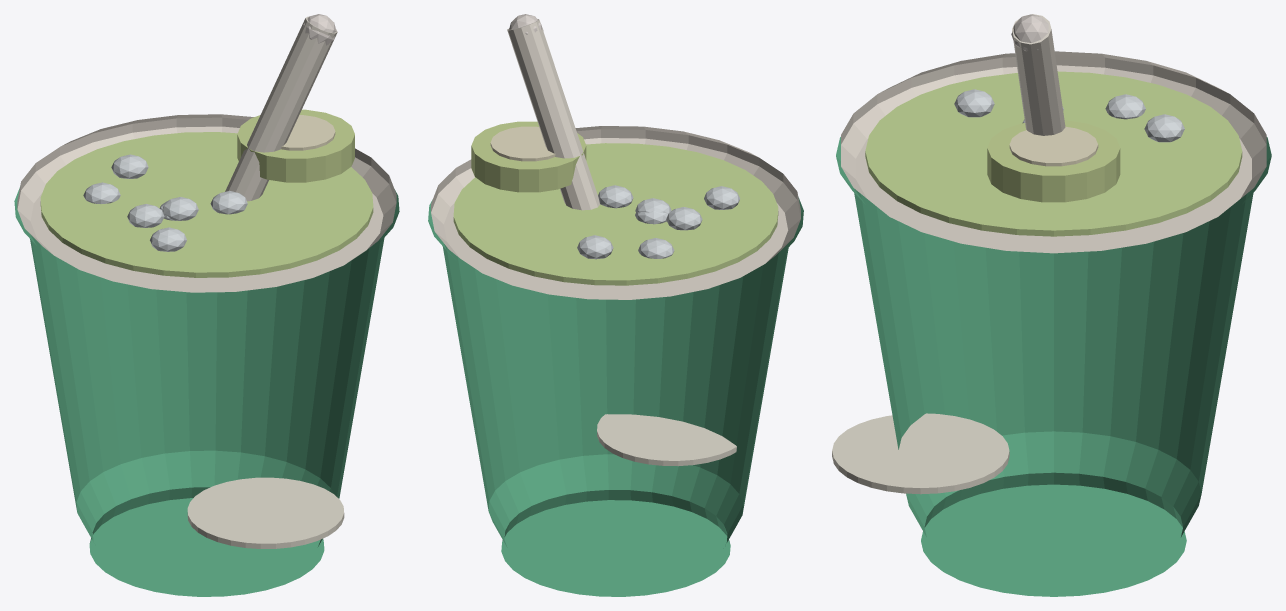
File: sprite.glb
The picture shows the model from 3 angles, left to right: view 1: azimuth 30°, elevation 25°; view 2: azimuth 150°, elevation 25°; view 3: azimuth 270°, elevation 25°; orthographic projection. The views are drawn at different scales.
Parts seen in each view (by area): view 1: obj_0000, obj_0001, obj_0002, obj_0003, obj_0004, obj_0013, obj_0014, obj_0007, obj_0009, obj_0006, obj_0008, obj_0012 (+2 smaller); view 2: obj_0000, obj_0001, obj_0002, obj_0004, obj_0003, obj_0013, obj_0014, obj_0007, obj_0009, obj_0006, obj_0008, obj_0011; view 3: obj_0000, obj_0001, obj_0002, obj_0003, obj_0013, obj_0004, obj_0014, obj_0009, obj_0007, obj_0005, obj_0011.
Boxes of the visible parts, <box> form: obj_0000: <box>14,187,399,596</box>; obj_0001: <box>40,132,373,277</box>; obj_0002: <box>17,114,396,292</box>; obj_0003: <box>187,477,344,548</box>; obj_0004: <box>225,16,337,201</box>; obj_0013: <box>237,109,354,182</box>; obj_0014: <box>281,115,335,150</box>; obj_0007: <box>111,154,148,178</box>; obj_0009: <box>150,227,186,251</box>; obj_0006: <box>127,204,164,227</box>; obj_0008: <box>210,191,247,214</box>; obj_0012: <box>163,197,198,220</box>; obj_0000: <box>428,197,803,596</box>; obj_0001: <box>453,143,778,285</box>; obj_0002: <box>431,126,800,299</box>; obj_0004: <box>507,19,599,210</box>; obj_0003: <box>597,414,736,466</box>; obj_0013: <box>471,121,586,192</box>; obj_0014: <box>490,126,555,161</box>; obj_0007: <box>577,235,613,259</box>; obj_0009: <box>704,186,740,209</box>; obj_0006: <box>666,207,702,230</box>; obj_0008: <box>598,185,633,208</box>; obj_0011: <box>638,238,674,258</box>; obj_0000: <box>836,137,1271,596</box>; obj_0001: <box>865,71,1242,236</box>; obj_0002: <box>841,51,1266,253</box>; obj_0003: <box>832,413,1009,494</box>; obj_0013: <box>987,120,1120,202</box>; obj_0004: <box>1012,14,1065,135</box>; obj_0014: <box>1009,126,1098,166</box>; obj_0009: <box>954,89,994,117</box>; obj_0007: <box>1144,114,1184,142</box>; obj_0005: <box>1011,14,1048,51</box>; obj_0011: <box>1105,94,1145,119</box>.
Size of the model in its own units: 1.18 by 1.73 by 1.19.
